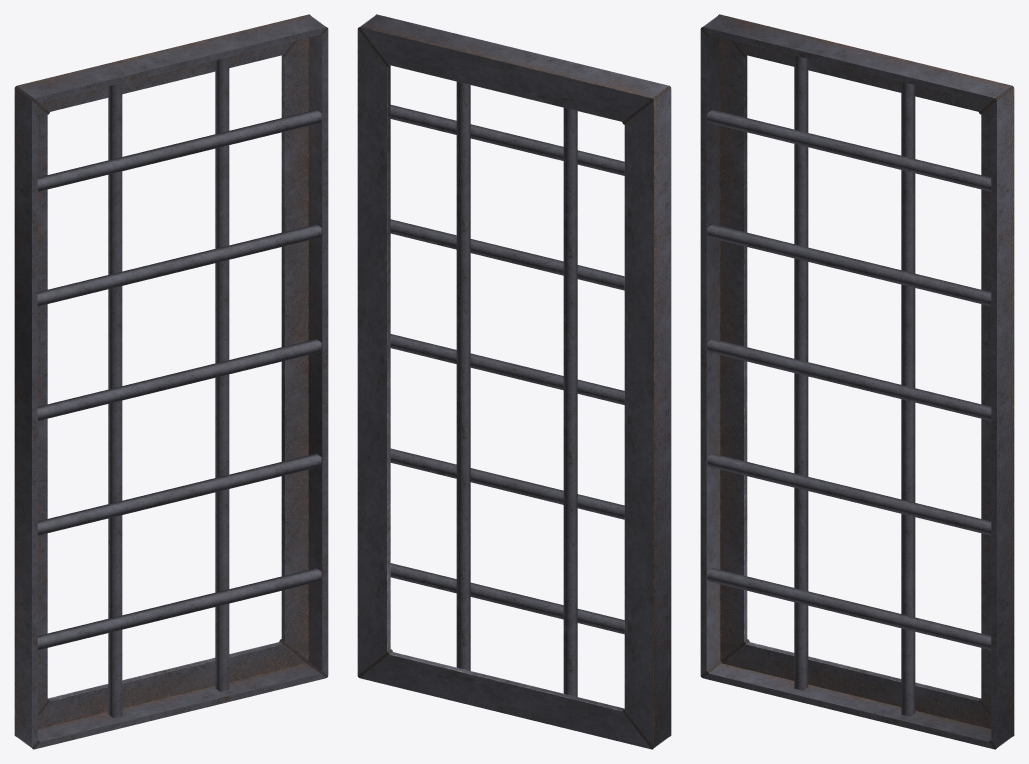
Rendered from SM_Large_Sewer_Cage_Door.fbx.
The picture shows the model from 3 angles, left to right: view 1: azimuth 30°, elevation 25°; view 2: azimuth 150°, elevation 25°; view 3: azimuth 330°, elevation 25°; orthographic projection.
Parts seen in each view (by area): view 1: SM_Large_Sewer_Cage_Door; view 2: SM_Large_Sewer_Cage_Door; view 3: SM_Large_Sewer_Cage_Door.
Boxes of the visible parts, x1,y1,x2,y2 form: SM_Large_Sewer_Cage_Door: (14, 14, 328, 749); SM_Large_Sewer_Cage_Door: (357, 14, 671, 749); SM_Large_Sewer_Cage_Door: (700, 14, 1014, 749).
Bounding box in the file's own units: 100 × 210 × 10.22.
